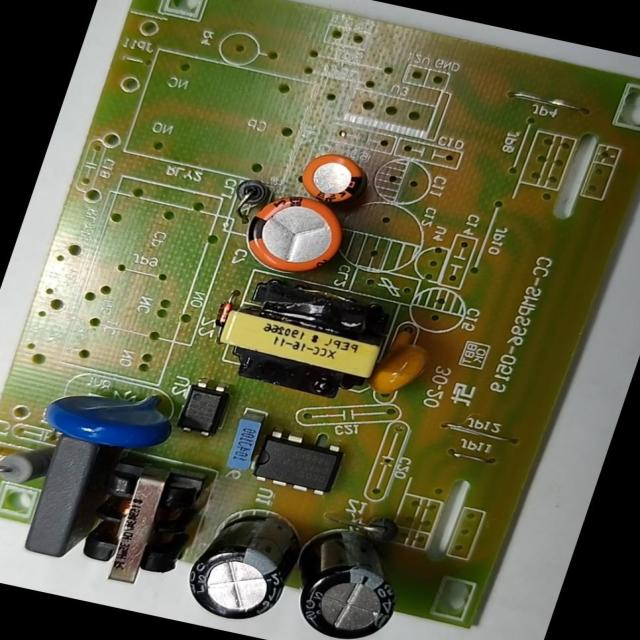Cap1: (233, 186, 355, 284)
Cap2: (292, 148, 371, 209)
Cap3: (174, 500, 309, 628)
Cap4: (278, 524, 419, 639)
MOSFET: (245, 426, 349, 501)
Mov: (35, 372, 181, 459)
Resistor: (0, 434, 60, 495)
Transformer: (202, 269, 398, 407), (69, 450, 216, 590)
